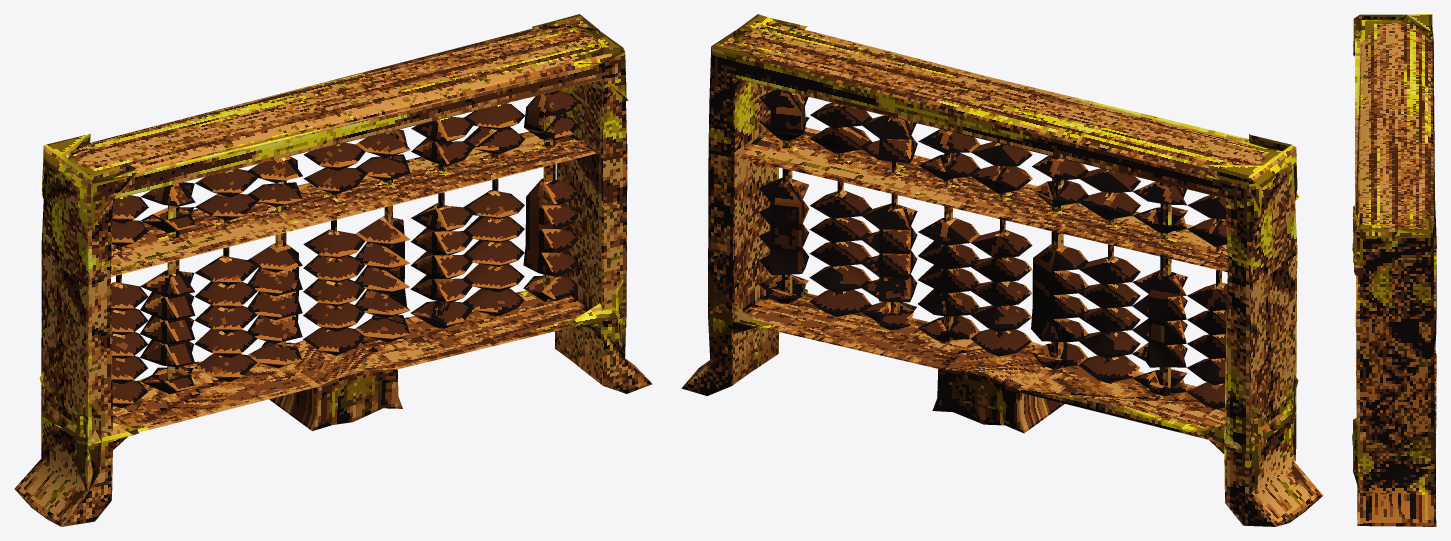
The model's file is soroban.glb.
3 views of the same model, side by side, from view 1: azimuth 30°, elevation 25°; view 2: azimuth 150°, elevation 25°; view 3: azimuth 270°, elevation 25° (orthographic). The views are drawn at different scales.
Visible parts, largest first — view 1: mesh; view 2: mesh; view 3: mesh.
Part boxes in pixels (x1=…): mesh: x1=14, y1=14, x2=652, y2=526; mesh: x1=681, y1=14, x2=1323, y2=526; mesh: x1=1352, y1=14, x2=1436, y2=526.
Bounding box in the file's own units: 0.2123 × 0.12 × 0.0318.
1 material, 1 textured.
